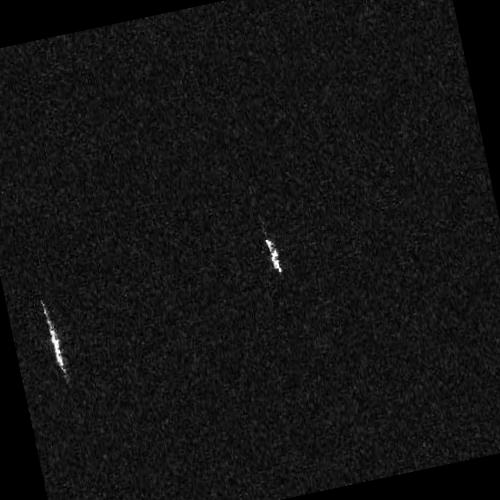ship: (42, 306, 67, 375), (261, 220, 284, 274)
